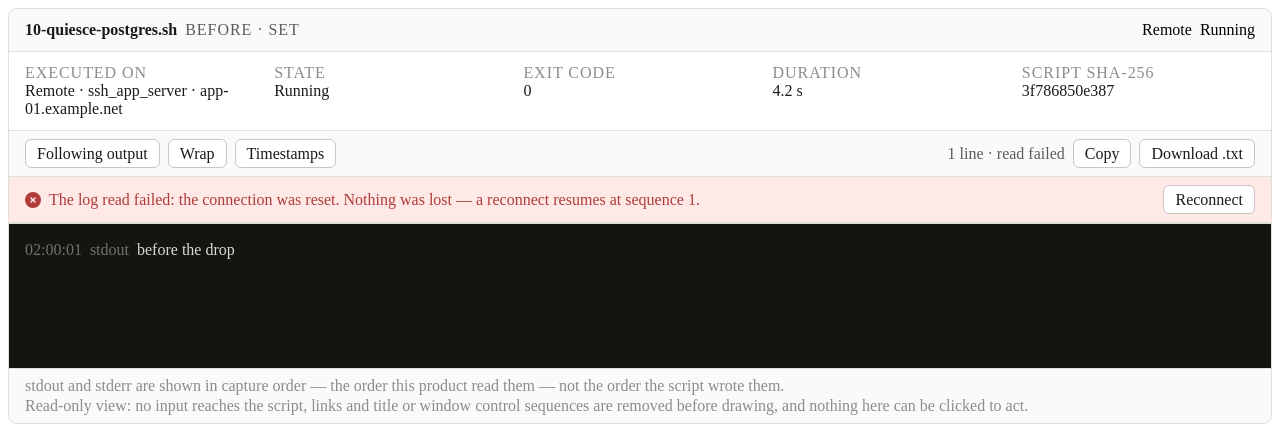
following, pausing and reconnecting › offers a reconnect after a failed read, and loses nothing durable when it is taken
Expected: the text "before the drop" is shown, [137,236,235,264]
Expected: the message shows "the connection was reset", [49,190,700,208]
Click the button "Reconnect". click: (1209, 200)
box: [1164,185,1255,214]
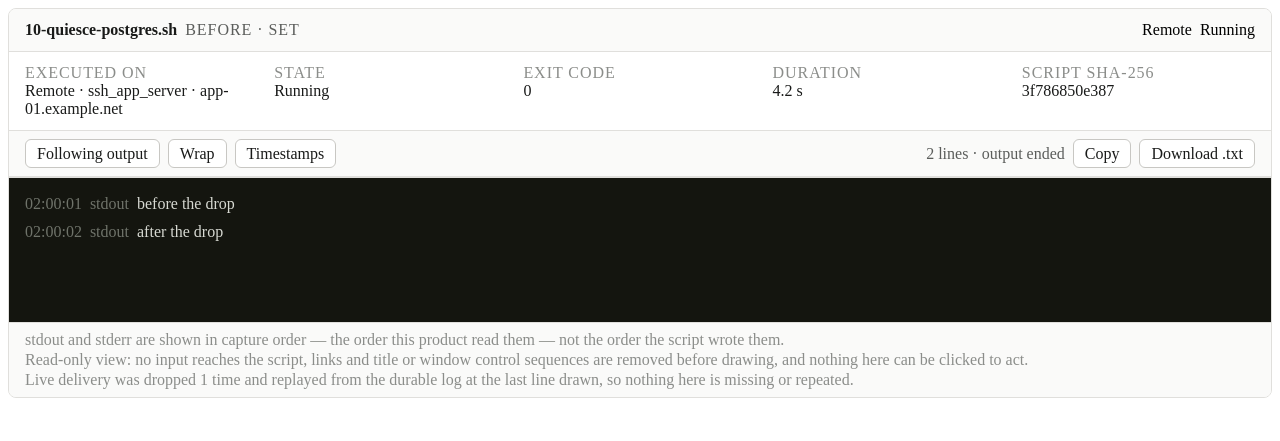
Expected: the text "after the drop" is shown, [137,218,223,246]
Expected: the text "before the drop" is shown once, [137,190,235,218]
Expected: the message is gone
